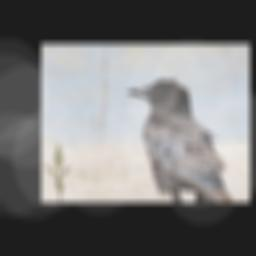Crow: (121, 77, 238, 202)
